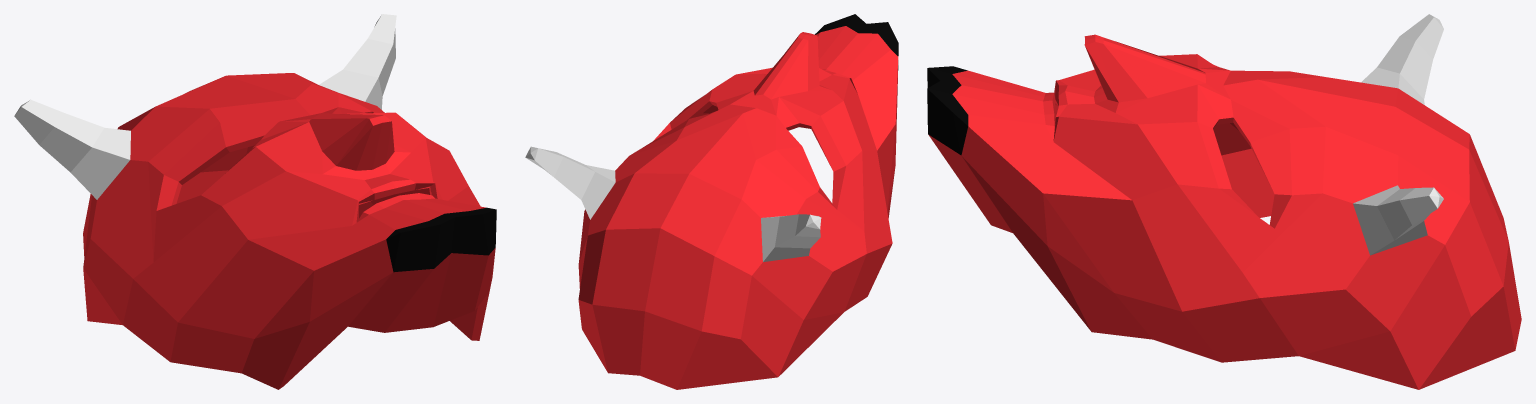
The model's file is Devil.fbx.
3 renders of one model, left to right at view 1: azimuth 30°, elevation 25°; view 2: azimuth 150°, elevation 25°; view 3: azimuth 270°, elevation 25°, orthographic. The views are drawn at different scales.
Visible parts, largest first — view 1: Mask.Devil.OG.001; view 2: Mask.Devil.OG.001; view 3: Mask.Devil.OG.001.
Boxes of the visible parts, bbox=[...] form: Mask.Devil.OG.001: bbox=[14, 14, 496, 389]; Mask.Devil.OG.001: bbox=[525, 14, 898, 389]; Mask.Devil.OG.001: bbox=[927, 14, 1521, 389].
Bounding box in the file's own units: 106 × 77.73 × 144.
